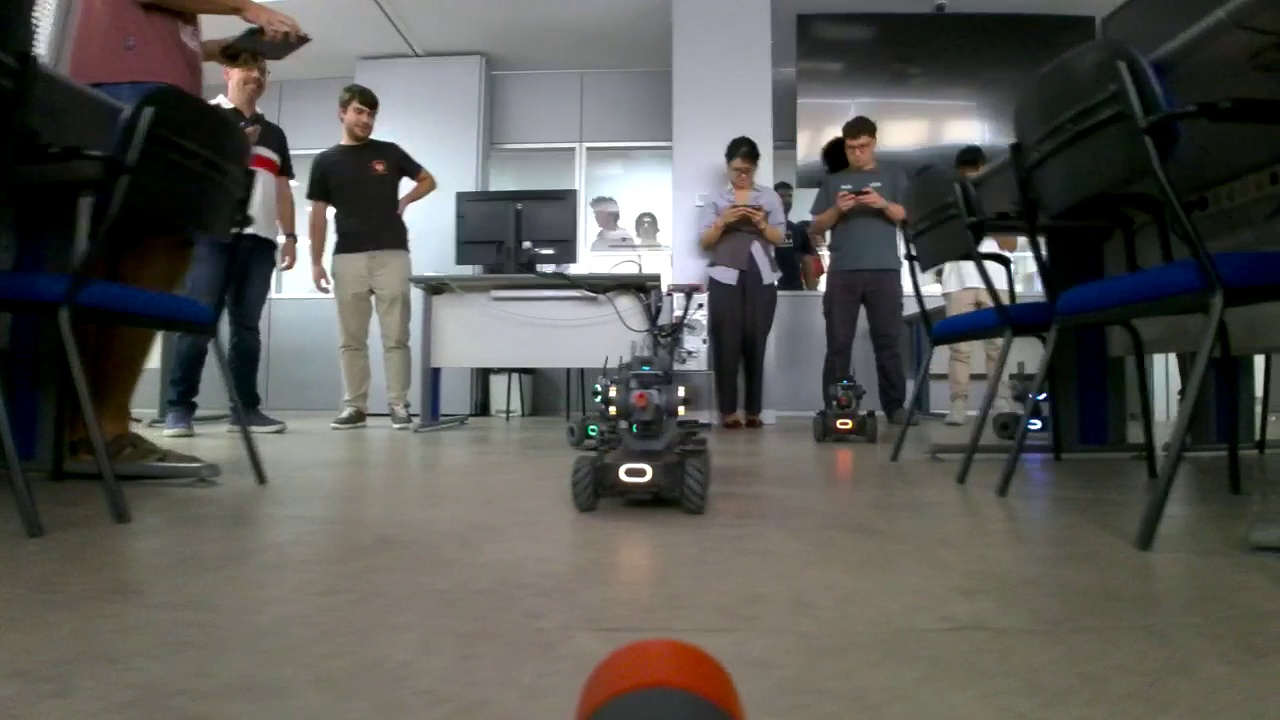robot: (571, 344, 709, 518), (567, 354, 654, 449), (811, 360, 878, 442)
